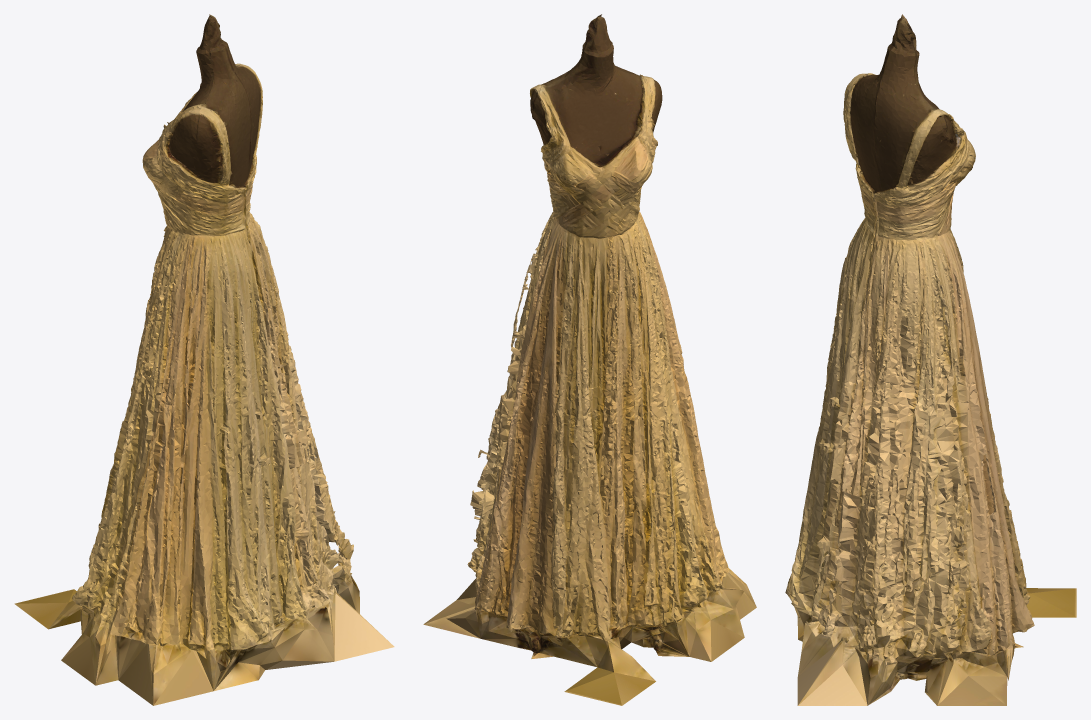
The picture shows the model from 3 angles, left to right: view 1: azimuth 30°, elevation 25°; view 2: azimuth 150°, elevation 25°; view 3: azimuth 270°, elevation 25°; orthographic projection. The views are drawn at different scales.
Parts seen in each view (by area): view 1: mesh; view 2: mesh; view 3: mesh.
Boxes of the visible parts, <box> form: mesh: <box>14,14,394,705</box>; mesh: <box>423,14,756,705</box>; mesh: <box>785,14,1076,705</box>.
Bounding box in the file's own units: 20.37 × 46.17 × 19.32.
1 material, 1 textured.
